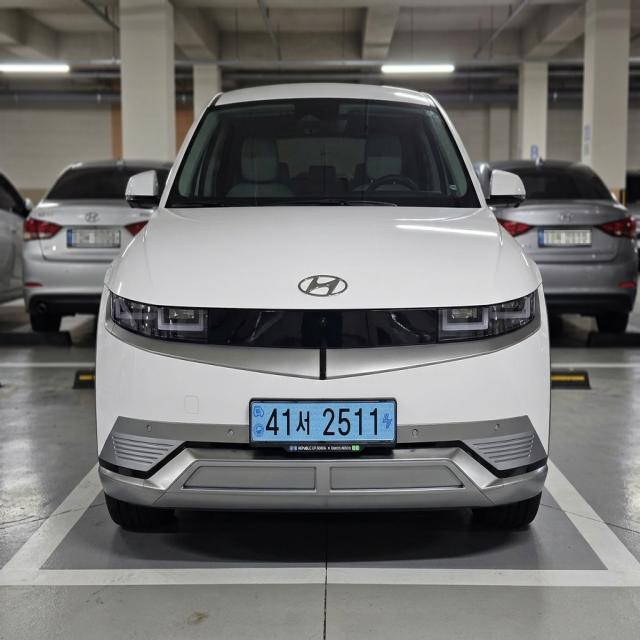car: (233, 390, 425, 476)
carev: (251, 403, 265, 444), (379, 405, 395, 436)
